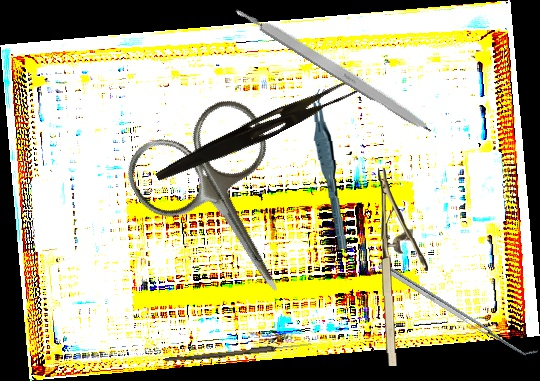Dressing Forceps: (153, 70, 361, 192)
Iris Scissors: (116, 89, 337, 328)
Needle Holder: (378, 167, 430, 367)
Scalpel Handle: (233, 1, 437, 136)
Spatula Surgical: (377, 255, 539, 363)
Surgical Spoon: (165, 340, 312, 365)
Tissue Forceps: (310, 88, 349, 251)
